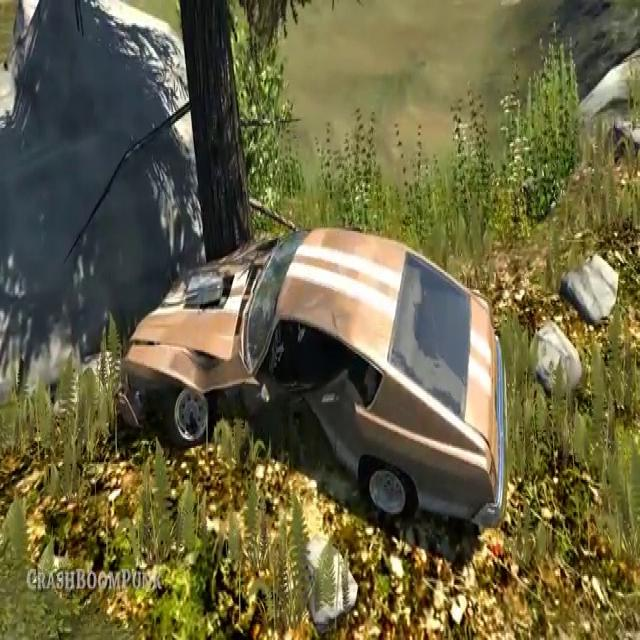accident: (108, 196, 512, 566)
